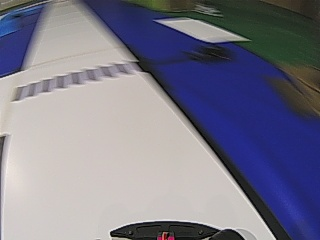CrossWalk: (10, 59, 147, 104)
